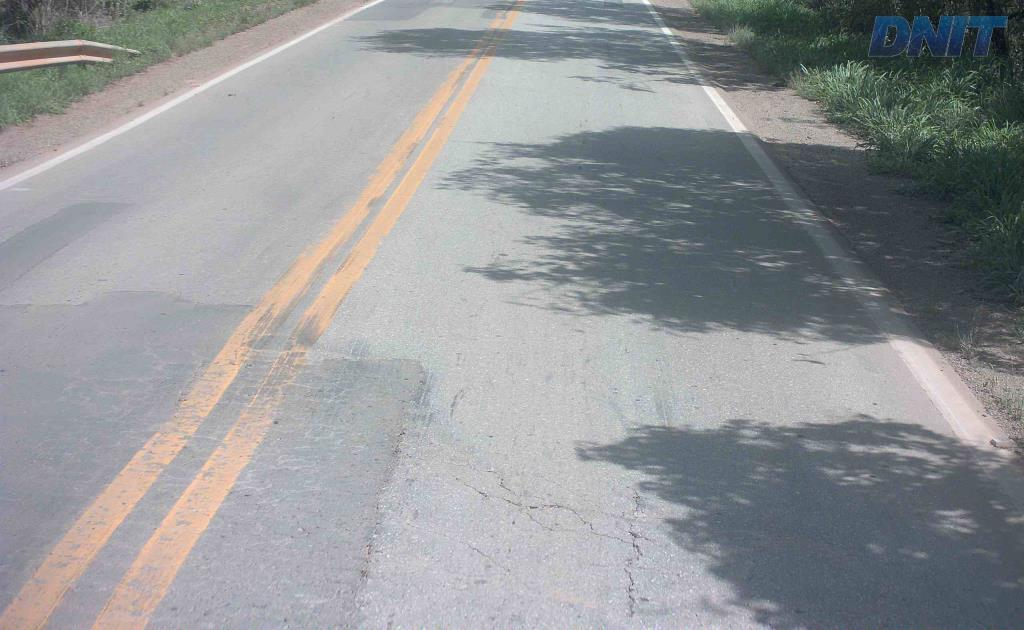crack: (540, 502, 649, 561)
